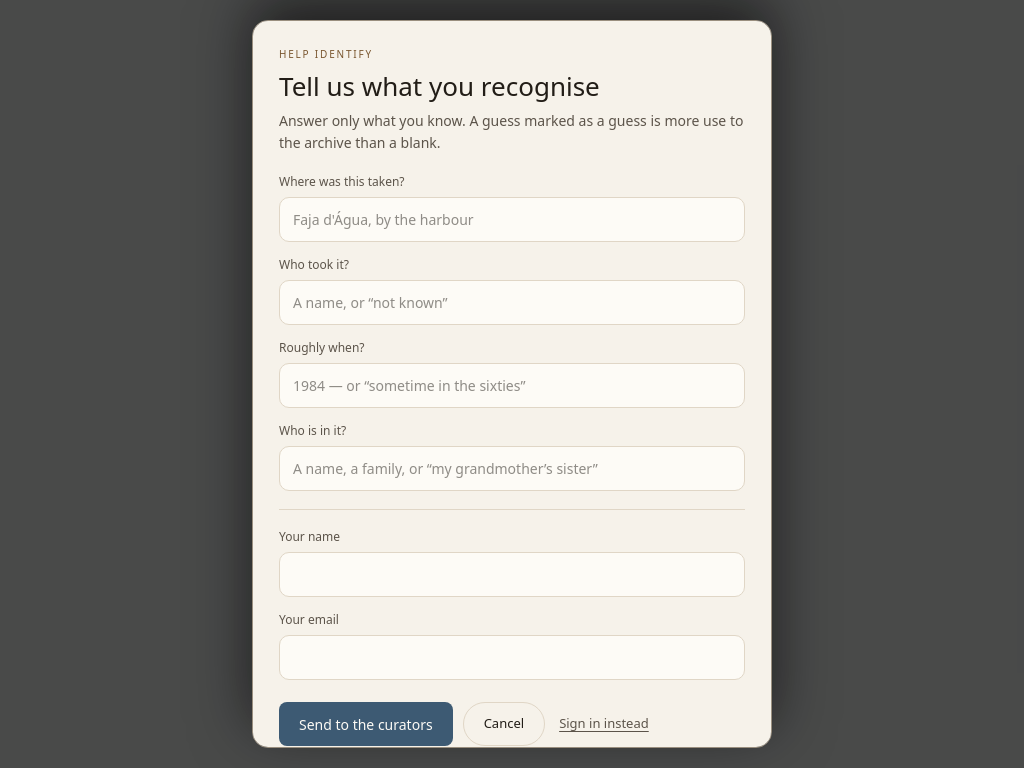
IdentifySheet › state reset › clears answers when the sheet is closed and reopened over the same record
This screenshot has width=1024, height=768.
Step 1. Type "sometime in the sixties" into the field labelled "Roughly when?" → x=512, y=386, box x1=279 y1=363 x2=745 y2=408
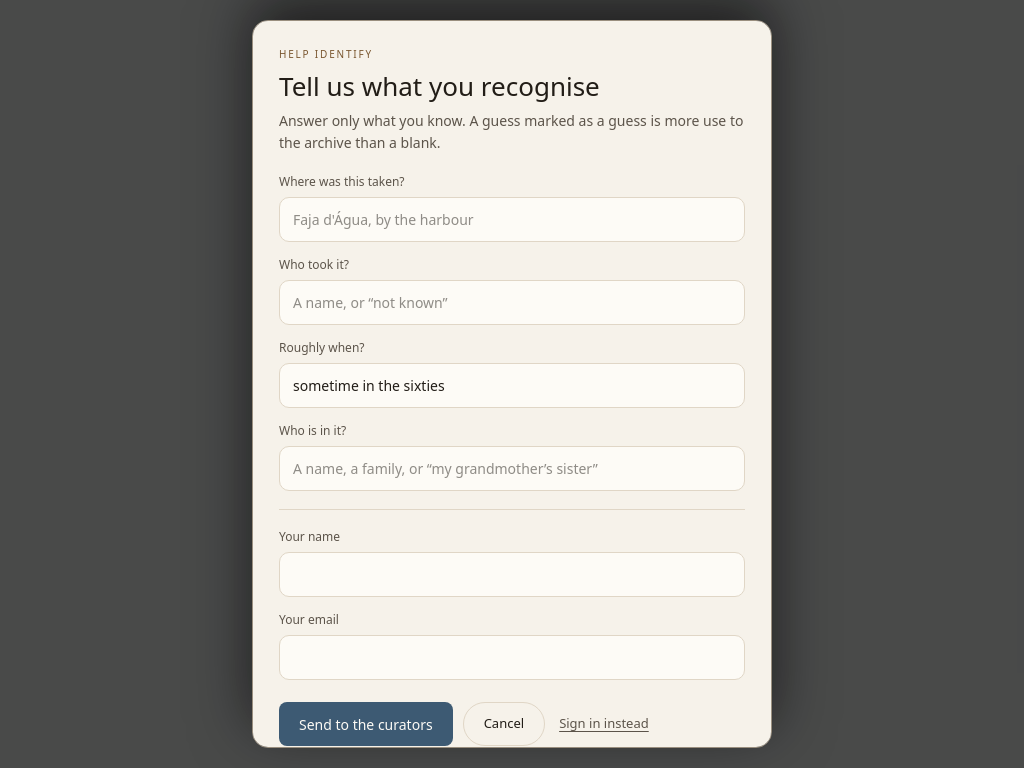
Step 2. Type "Ana Lopes" into the field labelled "Your name" → x=512, y=575, box x1=279 y1=552 x2=745 y2=597
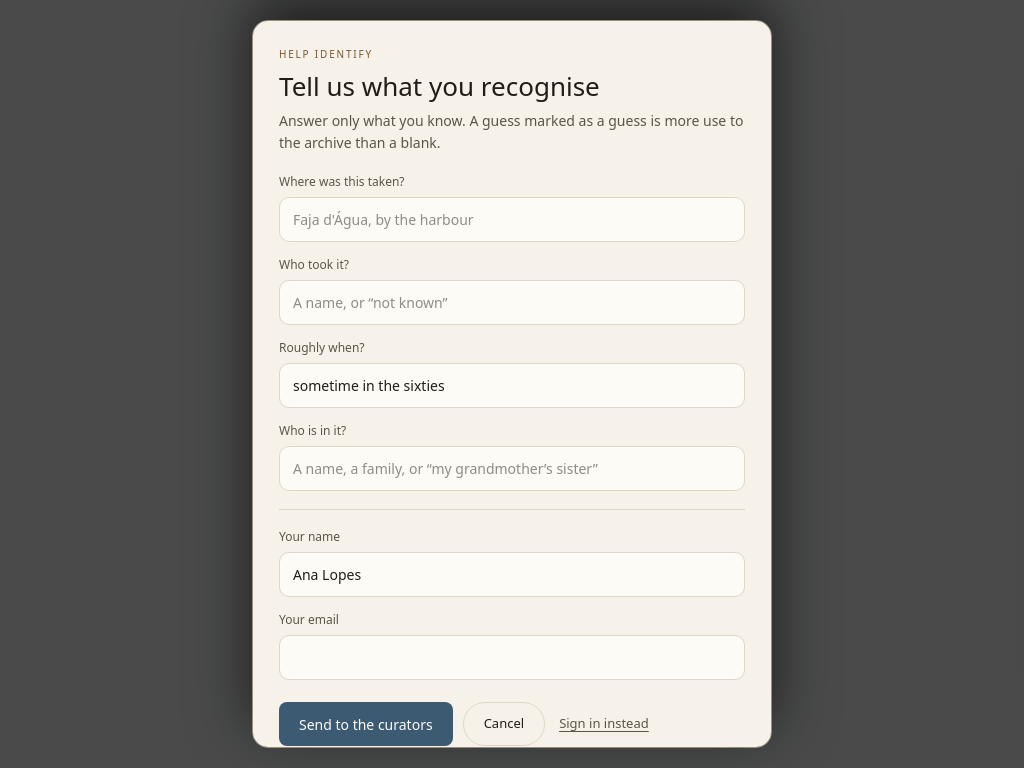
Step 3. Type "ana@example.com" into the field labelled "Your email" → x=512, y=658, box x1=279 y1=635 x2=745 y2=680
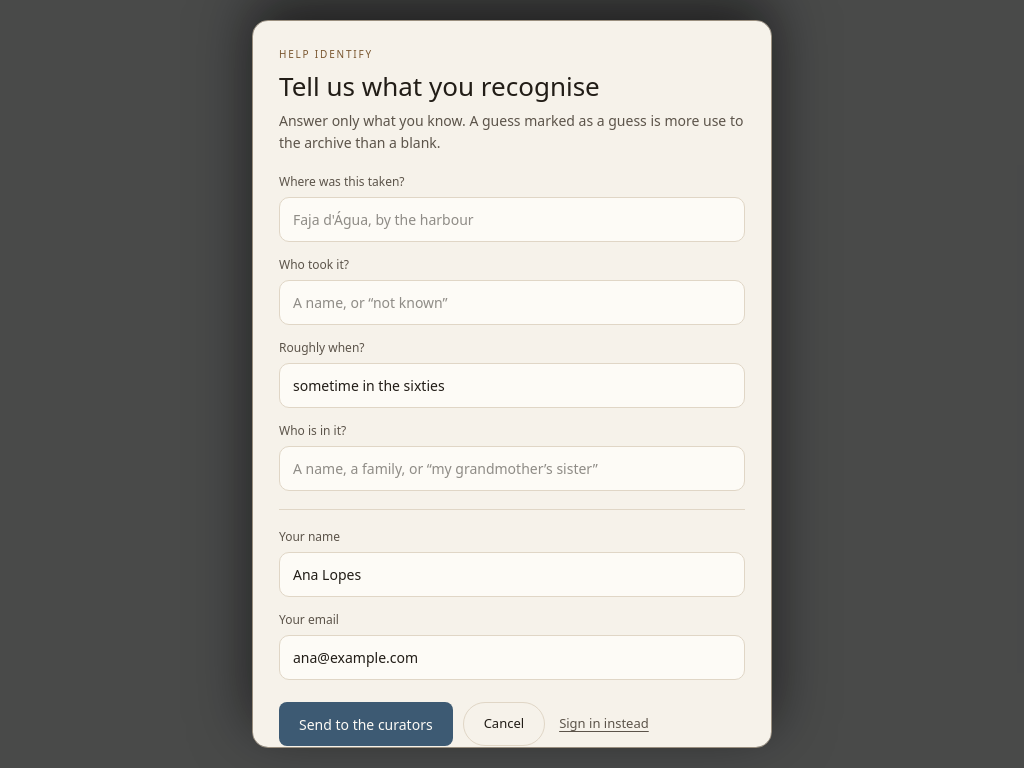
Step 4. Click the button "Cancel" → x=504, y=724, box x1=463 y1=702 x2=545 y2=746
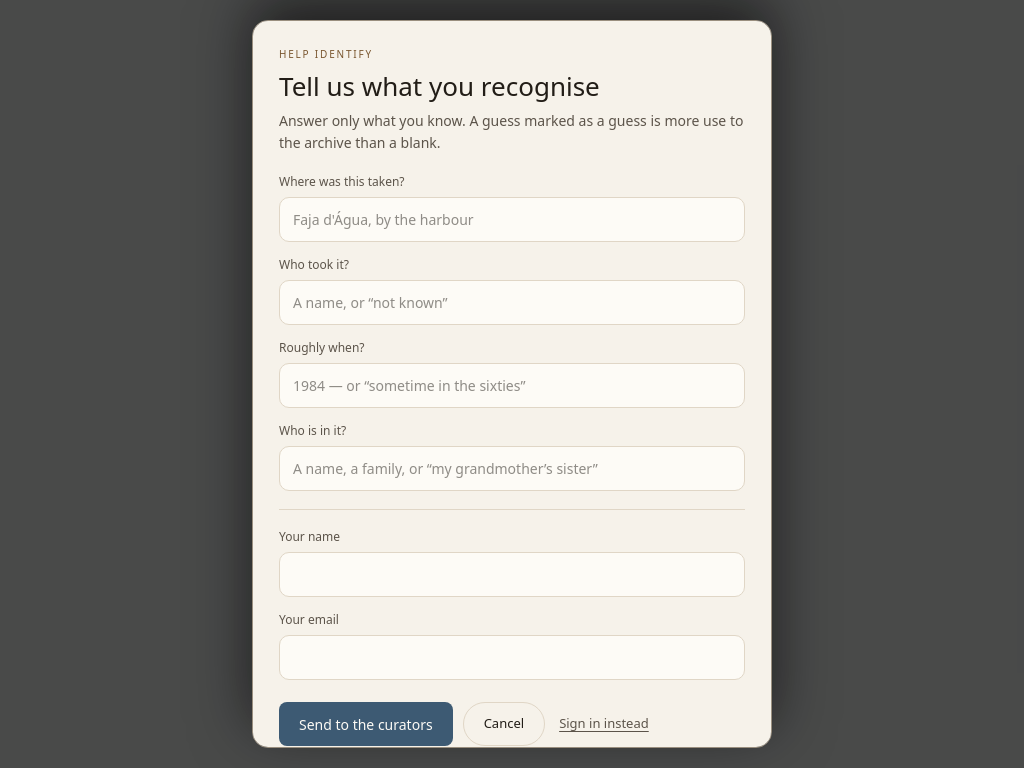
expect the field labelled "Roughly when?" is empty: met, box x1=279 y1=363 x2=745 y2=408
expect the field labelled "Your name" is empty: met, box x1=279 y1=552 x2=745 y2=597
expect the field labelled "Your email" is empty: met, box x1=279 y1=635 x2=745 y2=680
